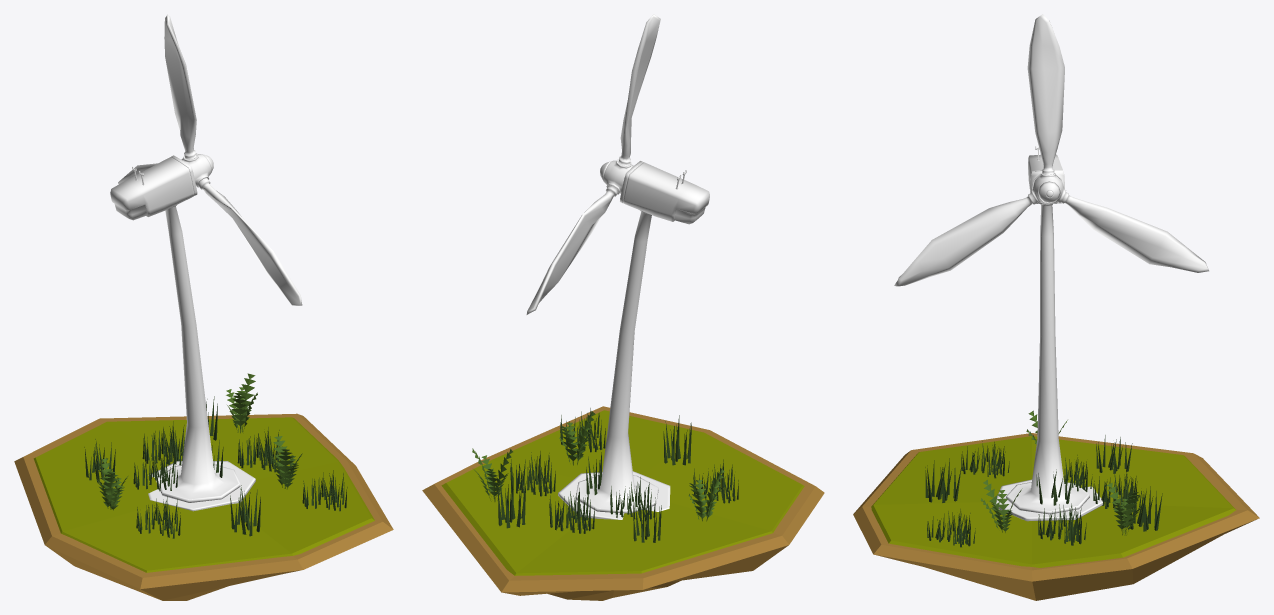
The model's file is eolico-island.glb.
The picture shows the model from 3 angles, left to right: view 1: azimuth 30°, elevation 25°; view 2: azimuth 150°, elevation 25°; view 3: azimuth 270°, elevation 25°; orthographic projection. The views are drawn at different scales.
Visible parts, largest first — view 1: Cube.001, Wind Turbine, Cube, Plants_F_1.003, Plants_A_2.001, Plants_F_1.001, Plants_F_1.002, Plants_F_1.005, Plants_F_1.004, Plants_A_2.002, Plants_F_2.001, Plants_A_2.003 (+1 smaller); view 2: Cube.001, Wind Turbine, Cube, Plants_F_1.003, Plants_F_1.001, Plants_F_1.004, Plants_A_2.002, Plants_A_2.003, Plants_F_2.003, Plants_A_2.001, Plants_F_2.001, Plants_F_1.005 (+2 smaller); view 3: Cube.001, Wind Turbine, Cube, Plants_F_1.001, Plants_F_1.002, Plants_F_1.005, Plants_A_2.001, Plants_F_1.003, Plants_F_2.001, Plants_A_2.002, Plants_F_2.003, Plants_F_2.004 (+1 smaller).
Part boxes in pixels (bbox=[...]): Cube.001: bbox=[33, 417, 374, 572]; Wind Turbine: bbox=[110, 14, 302, 511]; Cube: bbox=[14, 413, 393, 600]; Plants_F_1.003: bbox=[142, 421, 184, 465]; Plants_A_2.001: bbox=[226, 373, 257, 433]; Plants_F_1.001: bbox=[237, 427, 280, 472]; Plants_F_1.002: bbox=[302, 470, 347, 511]; Plants_F_1.005: bbox=[136, 496, 180, 538]; Plants_F_1.004: bbox=[133, 450, 177, 491]; Plants_A_2.002: bbox=[270, 436, 302, 489]; Plants_F_2.001: bbox=[230, 485, 260, 536]; Plants_A_2.003: bbox=[96, 458, 127, 510]; Cube.001: bbox=[441, 410, 804, 575]; Wind Turbine: bbox=[526, 14, 709, 519]; Cube: bbox=[422, 406, 824, 600]; Plants_F_1.003: bbox=[549, 488, 594, 533]; Plants_F_1.001: bbox=[510, 451, 555, 496]; Plants_F_1.004: bbox=[610, 477, 655, 521]; Plants_A_2.002: bbox=[559, 411, 595, 465]; Plants_A_2.003: bbox=[688, 468, 724, 521]; Plants_F_2.003: bbox=[498, 473, 526, 528]; Plants_A_2.001: bbox=[472, 448, 512, 501]; Plants_F_2.001: bbox=[663, 415, 691, 465]; Plants_F_1.005: bbox=[693, 459, 738, 503]; Cube.001: bbox=[871, 436, 1235, 567]; Wind Turbine: bbox=[894, 14, 1208, 521]; Cube: bbox=[853, 433, 1259, 600]; Plants_F_1.001: bbox=[1038, 503, 1086, 545]; Plants_F_1.002: bbox=[927, 509, 975, 547]; Plants_F_1.005: bbox=[961, 441, 1009, 478]; Plants_A_2.001: bbox=[1107, 482, 1144, 535]; Plants_F_1.003: bbox=[1093, 471, 1141, 510]; Plants_F_2.001: bbox=[925, 458, 961, 502]; Plants_A_2.002: bbox=[980, 479, 1022, 532]; Plants_F_2.003: bbox=[1126, 484, 1162, 531]; Plants_F_2.004: bbox=[1096, 435, 1132, 473].
Size of the model in its own units: 13.09 by 22.95 by 15.2.
